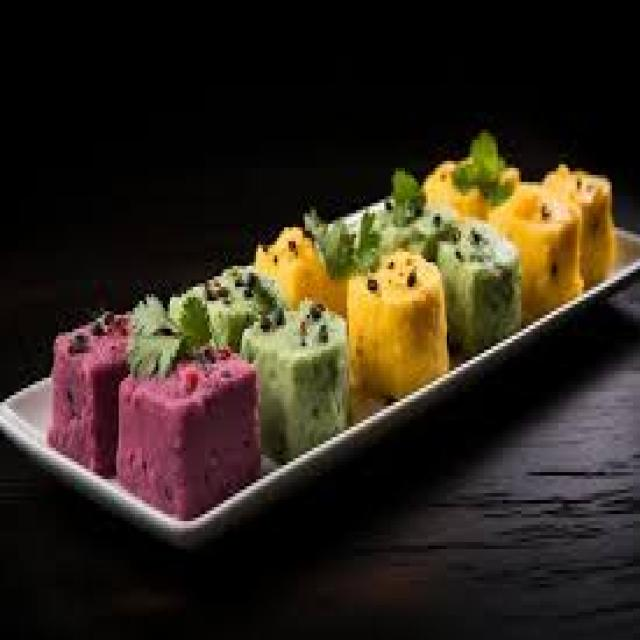DHOKLA: (120, 326, 262, 518), (47, 297, 178, 474), (240, 305, 350, 466), (347, 245, 449, 400), (423, 213, 524, 359), (492, 182, 587, 313), (544, 158, 623, 284)
